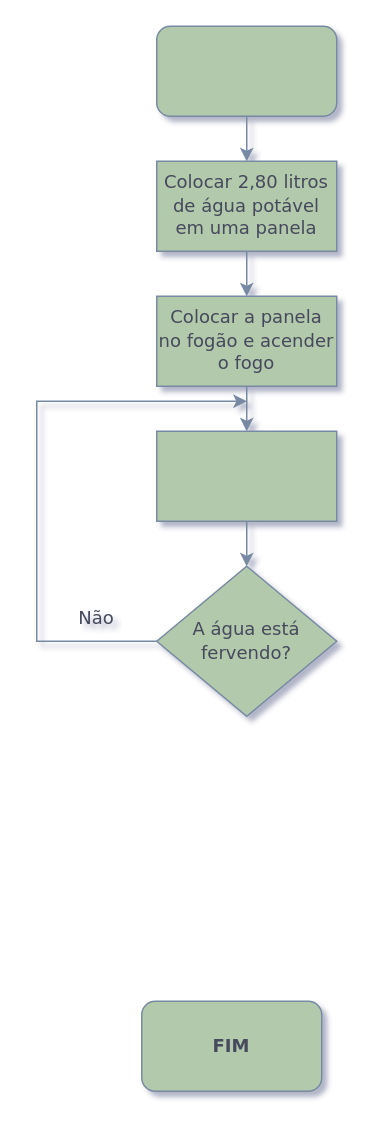
Some shapes in this 372 by 1127 pixel diagram are drawn without their labels. Here are the shapes that lost their labels. From the top down, the box of each, then its label:
(155, 25, 337, 116): INÍCIO
(155, 430, 337, 521): Esperar até que a água comece a ferver
